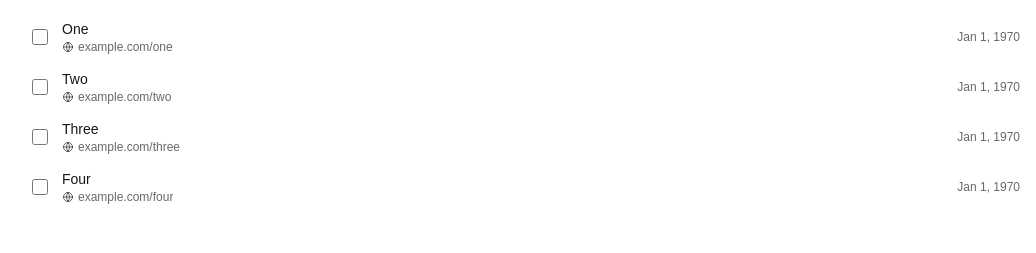
Test: selecting links (§6.5) › with Select on, a click selects and Shift-click a range; nothing opens
Click the link "Two".
click(75, 79)  # box [62,71,88,87]
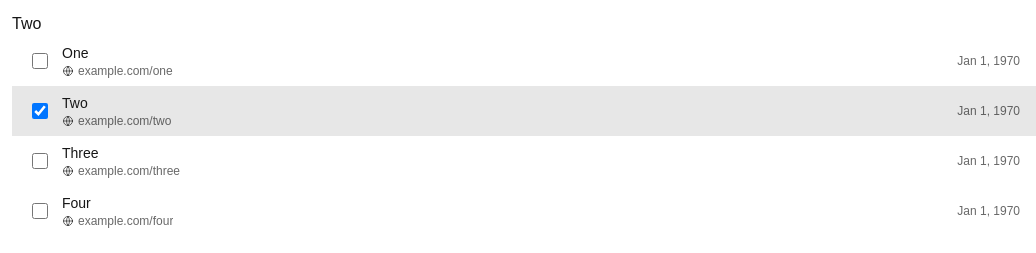
Click the link "Four".
click(76, 203)  # box [62,195,91,211]
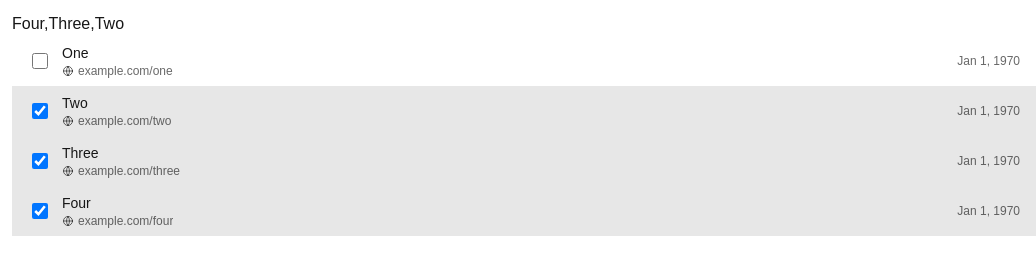
Expected: the text with test id "selected" reads "Four,Three,Two", [12,15,124,32]
